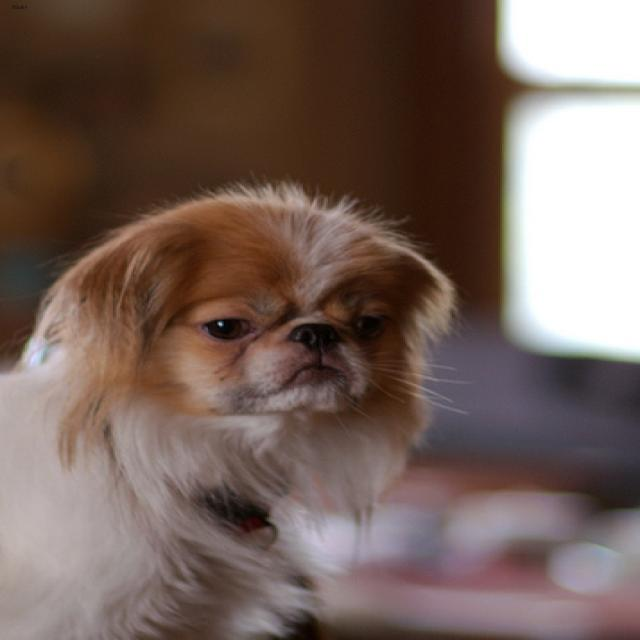dog-japanese_chin: (2, 175, 475, 637)
